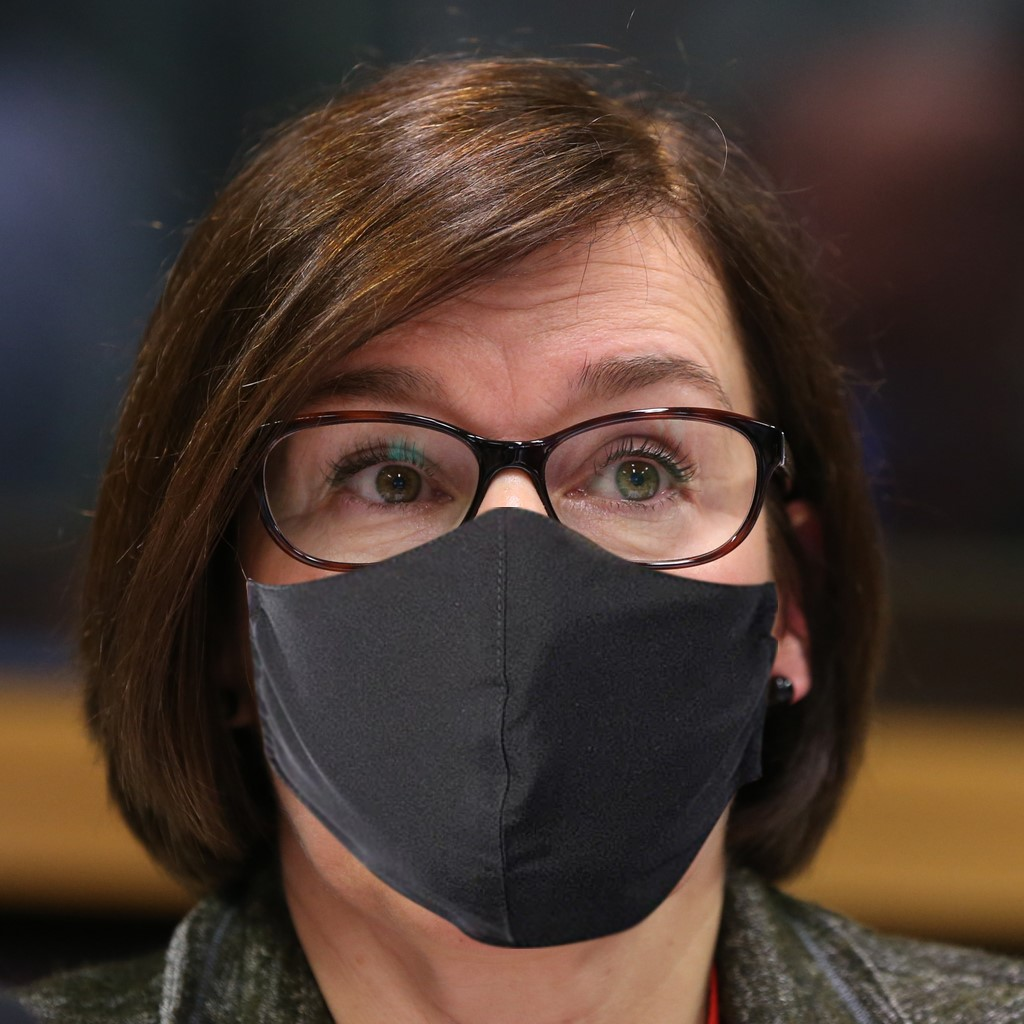con_mascara: (177, 187, 799, 943)
